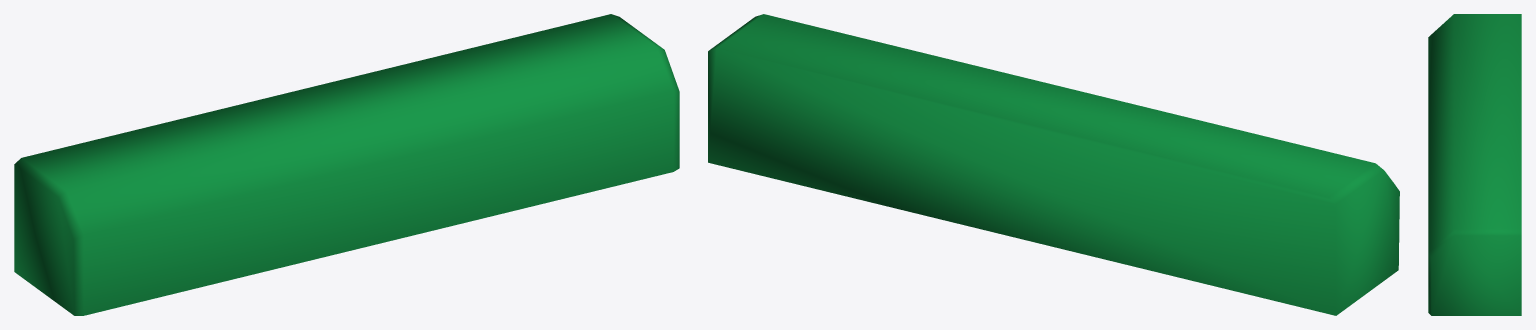
File: SM_Border_01.fbx
The picture shows the model from 3 angles, left to right: view 1: azimuth 30°, elevation 25°; view 2: azimuth 150°, elevation 25°; view 3: azimuth 270°, elevation 25°; orthographic projection. The views are drawn at different scales.
Parts seen in each view (by area): view 1: SM_Border_01; view 2: SM_Border_01; view 3: SM_Border_01.
Part boxes in pixels (x1,y1,x2,y2): SM_Border_01: (14,14,679,315); SM_Border_01: (708,14,1399,315); SM_Border_01: (1428,14,1521,315).
Bounding box in the file's own units: 40.07 × 7.09 × 7.16.
1 material, 1 textured.
